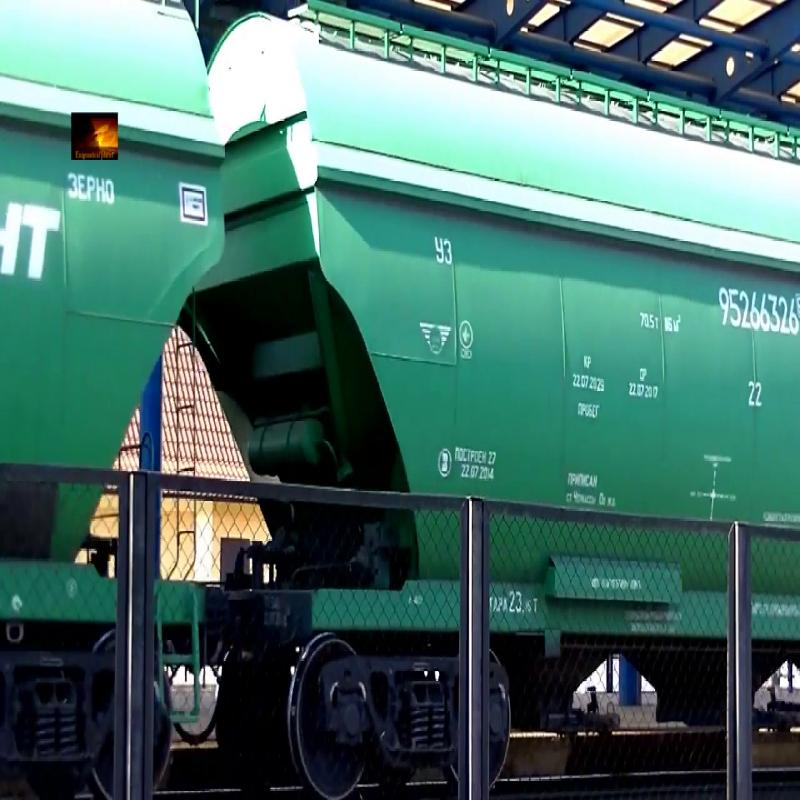train: (246, 1, 800, 770), (2, 5, 203, 771)
